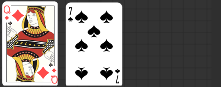7C: (113, 67, 121, 84)
9D: (2, 4, 11, 21)
